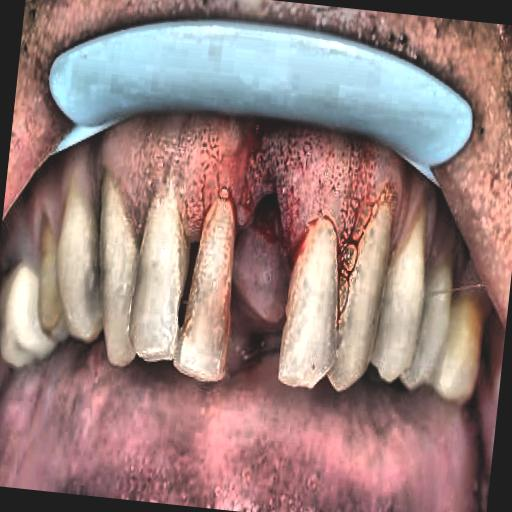Gingivitis: (47, 106, 445, 302)
